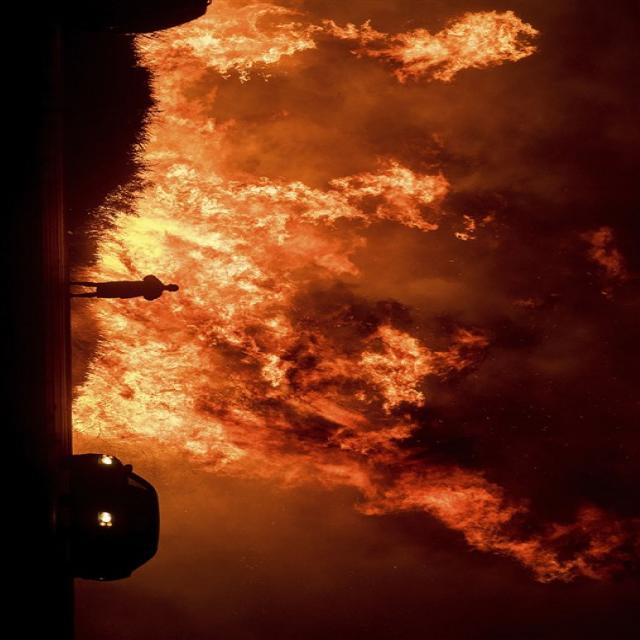Fire: (67, 9, 632, 580)
